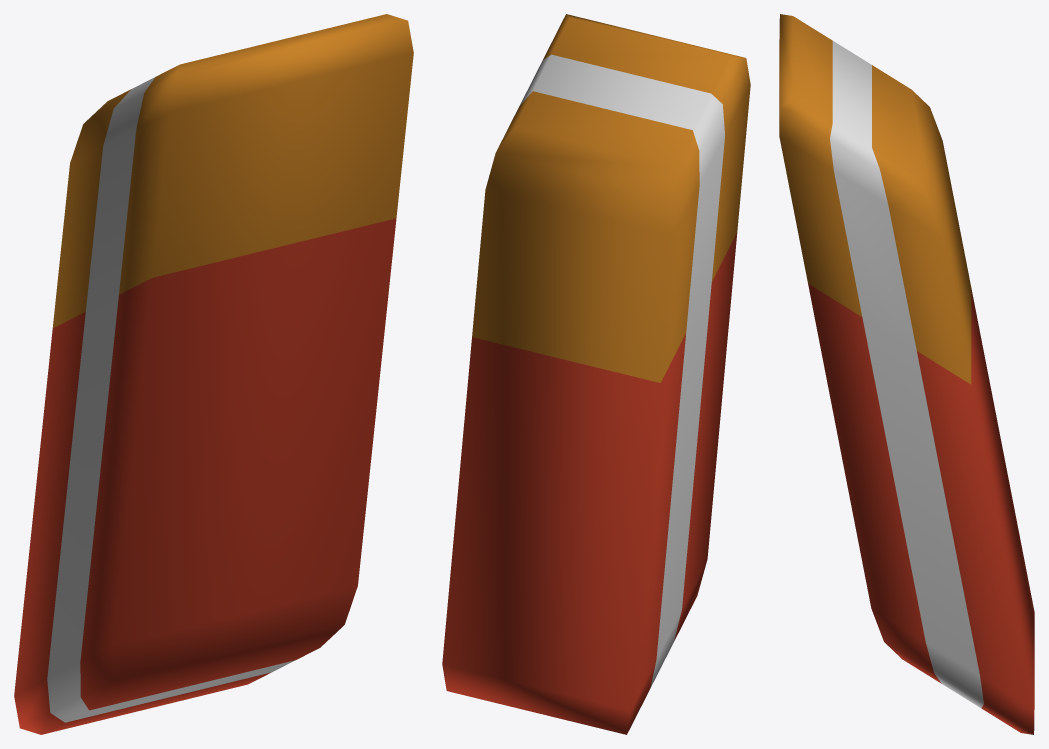
The model's file is RubberModel.fbx.
3 renders of one model, left to right at view 1: azimuth 30°, elevation 25°; view 2: azimuth 150°, elevation 25°; view 3: azimuth 270°, elevation 25°, orthographic. The views are drawn at different scales.
Visible parts, largest first — view 1: Borracha; view 2: Borracha; view 3: Borracha.
Boxes of the visible parts, <box> form: Borracha: <box>14,14,413,734</box>; Borracha: <box>442,14,750,734</box>; Borracha: <box>779,14,1034,734</box>.
Size of the model in its own units: 1.23 by 3.72 by 1.36.
